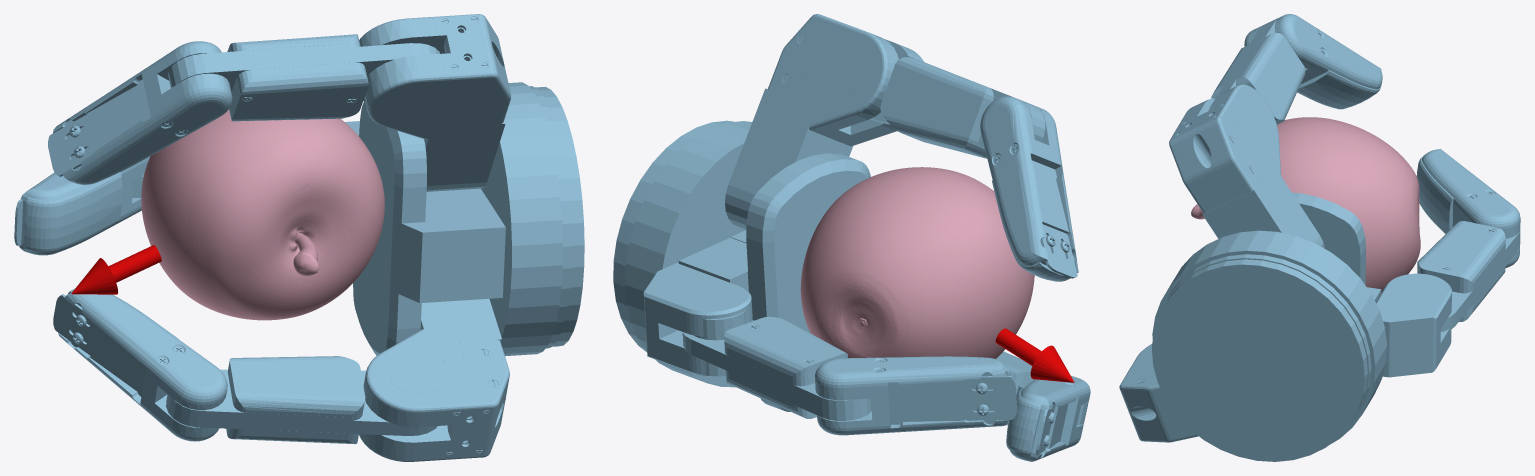
3 views of the same model, side by side, from view 1: azimuth 30°, elevation 25°; view 2: azimuth 150°, elevation 25°; view 3: azimuth 270°, elevation 25° (orthographic). The views are drawn at different scales.
Visible parts, largest first — view 1: world, apple.stl; view 2: world, apple.stl; view 3: world, apple.stl.
Boxes of the visible parts, x1,y1,x2,y2 form: world: (14, 14, 584, 461); apple.stl: (141, 109, 384, 320); world: (613, 14, 1090, 461); apple.stl: (800, 167, 1034, 358); world: (1119, 14, 1520, 461); apple.stl: (1191, 117, 1420, 292).
Bounding box in the file's own units: 0.1781 × 0.1452 × 0.1542.
